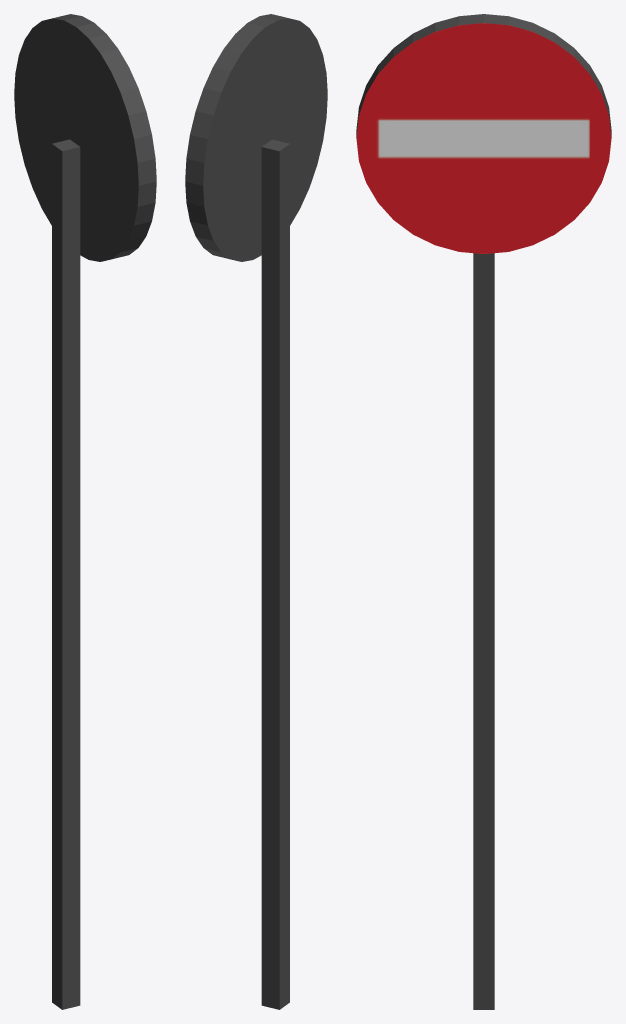
File: girisi_olmayan_yol_levha.dae
The picture shows the model from 3 angles, left to right: view 1: azimuth 30°, elevation 25°; view 2: azimuth 150°, elevation 25°; view 3: azimuth 270°, elevation 25°; orthographic projection. The views are drawn at different scales.
Parts seen in each view (by area): view 1: Cube.004, Cube.001; view 2: Cube.004, Cube.001; view 3: Cube.001, Cube.004.
Boxes of the visible parts, x1,y1,x2,y2 form: Cube.004: (52,139,80,1009); Cube.001: (14,14,156,261); Cube.004: (261,139,289,1009); Cube.001: (185,14,327,261); Cube.001: (356,14,611,253); Cube.004: (473,253,494,1009).
Bounding box in the file's own units: 0.1039 × 0.6 × 2.59.
Materials: 2 (1 with a texture image).
